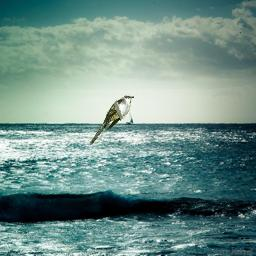Cuckoo: (89, 95, 134, 146)
